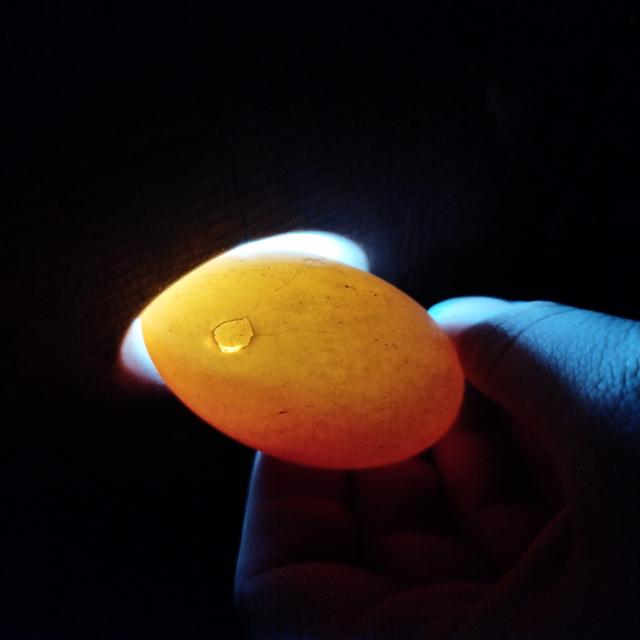Gema Quebrada: (146, 334, 465, 470)
Rachadura: (214, 317, 253, 353)
